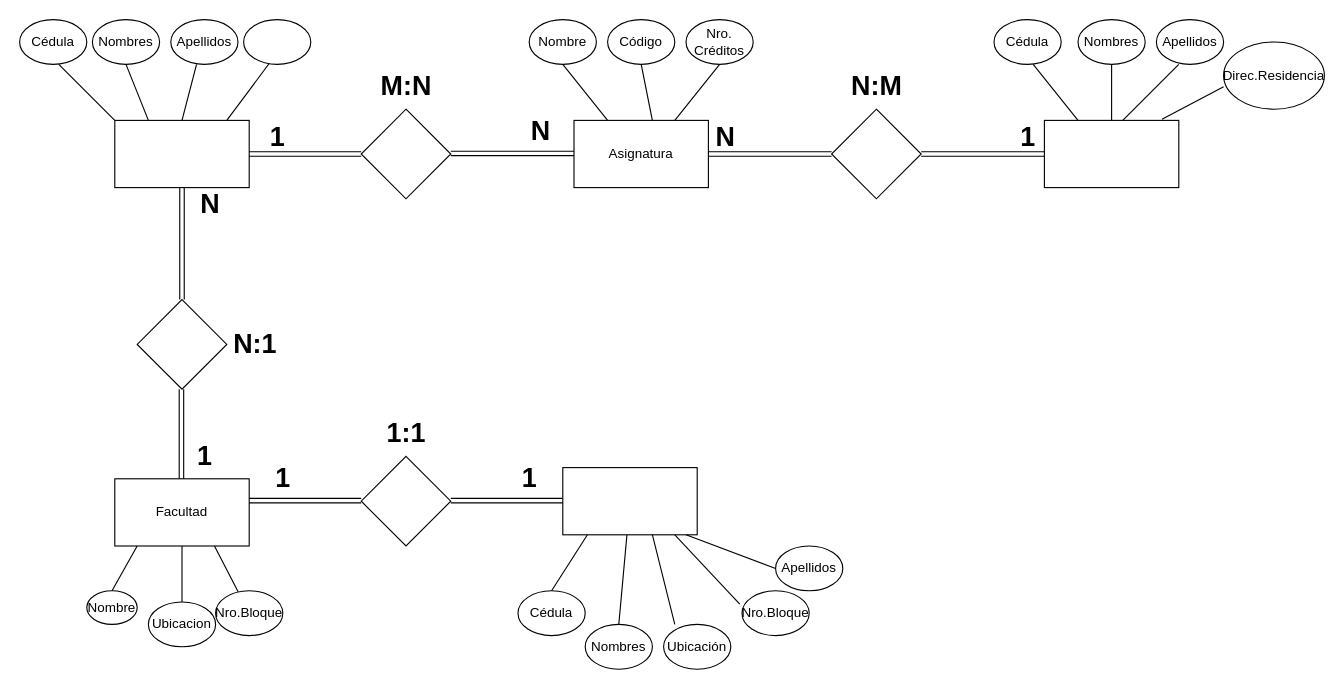
This 1344x689 diagram has some shape labels left out. Each missing label, with the centre of its shape:
"Decano" belongs at point 629,500.
"Dicta" belongs at point 405,153.
"Dirige" belongs at point 405,500.
"Docente" belongs at point 181,153.
"Estudiante" belongs at point 1111,153.
"Inscribe" belongs at point 875,153.
"Pertenece" belongs at point 181,343.
"Título" belongs at point 276,41.
